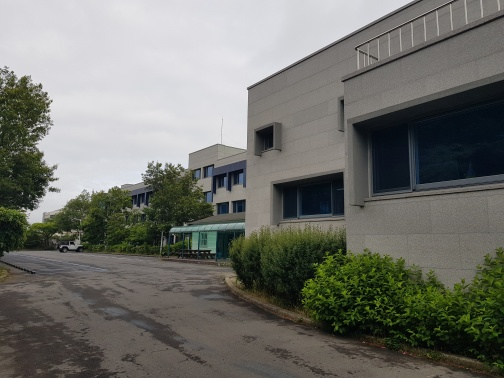College of Social Sciences: (108, 6, 495, 281)
